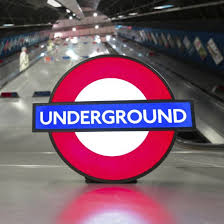London Underground: (36, 53, 192, 183)
